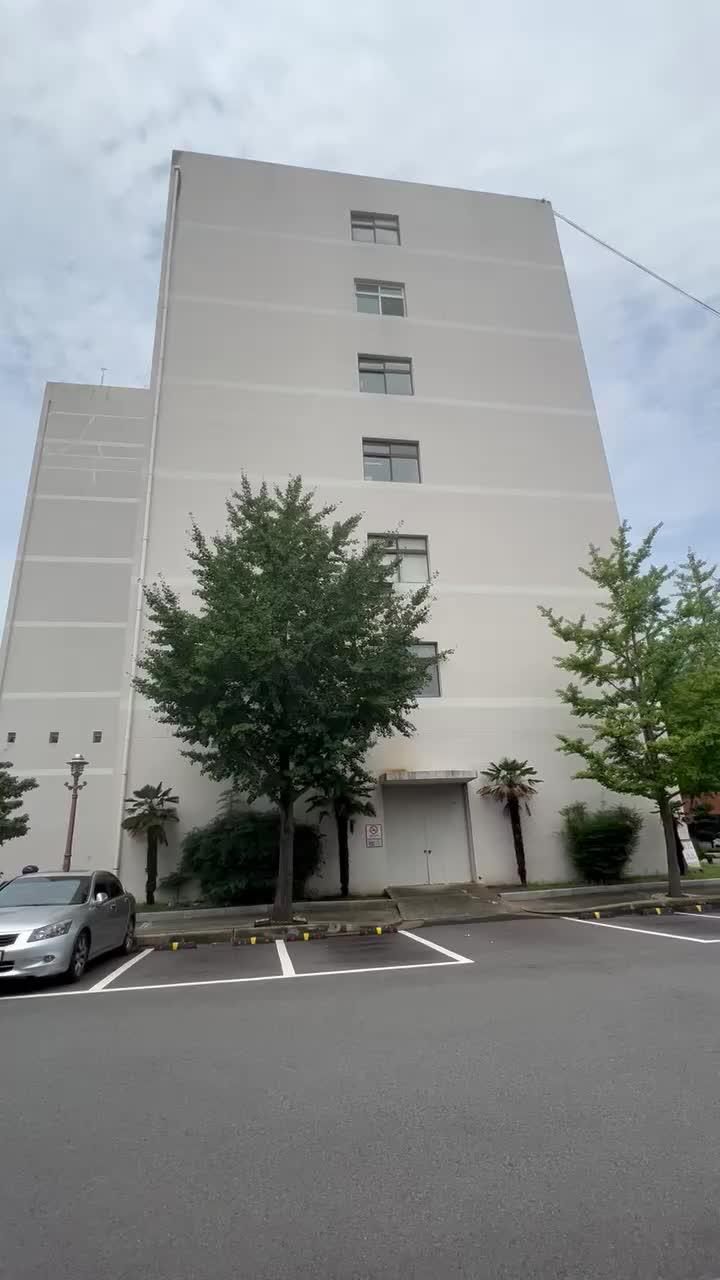building: (88, 138, 610, 508)
